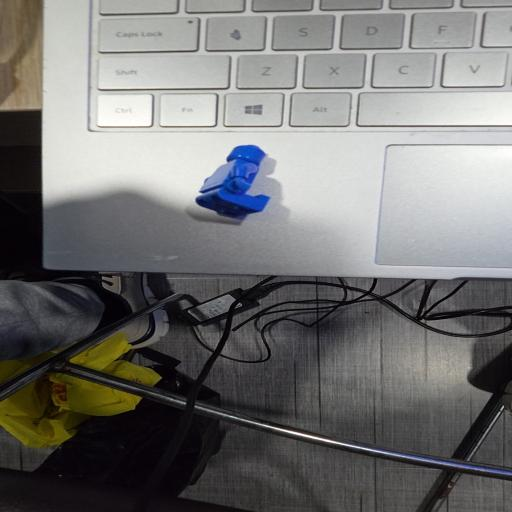Blue: (196, 145, 269, 219)
